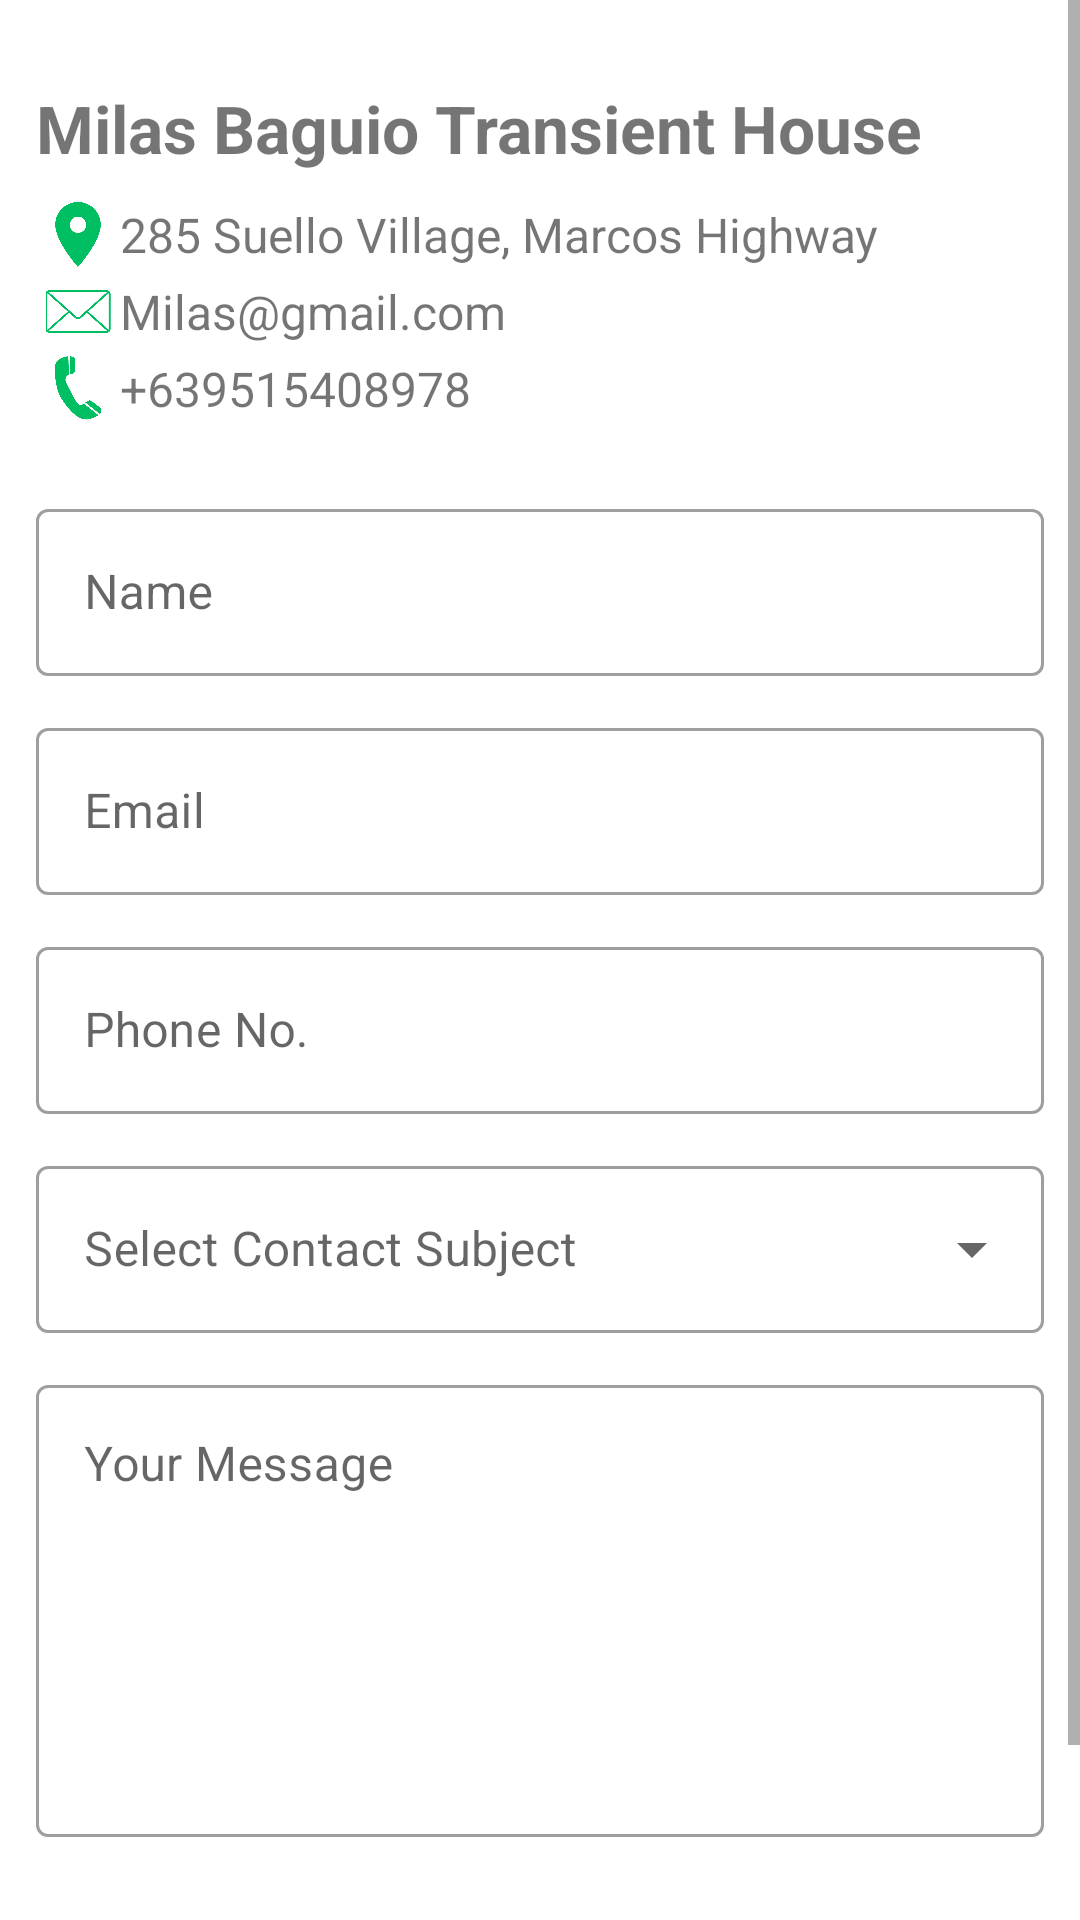

Named icons in this screenshot (1080×1920) and their bounding boxes, [left=x1, top=y1, right=x2, bottom=y2]:
email: [left=46, top=290, right=111, bottom=333]
location: [left=55, top=202, right=101, bottom=267]
phone: [left=55, top=356, right=102, bottom=420]
